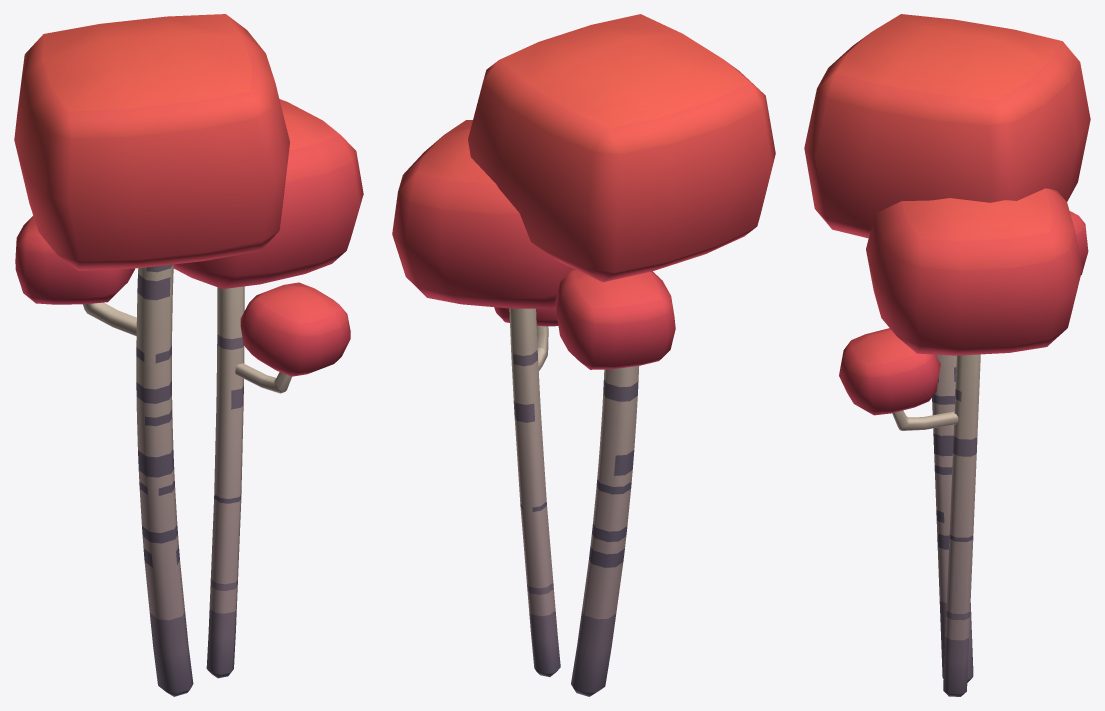
The model's file is birch_tree_SC_06.fbx.
3 renders of one model, left to right at view 1: azimuth 30°, elevation 25°; view 2: azimuth 150°, elevation 25°; view 3: azimuth 270°, elevation 25°, orthographic. The views are drawn at different scales.
Parts seen in each view (by area): view 1: birch_tree_SC_06; view 2: birch_tree_SC_06; view 3: birch_tree_SC_06.
Part boxes in pixels (x1,y1,x2,y2): birch_tree_SC_06: (14,14,363,696); birch_tree_SC_06: (392,14,775,696); birch_tree_SC_06: (804,14,1090,696).
Size of the model in its own units: 373 by 706 by 294.
1 material, 1 textured.
